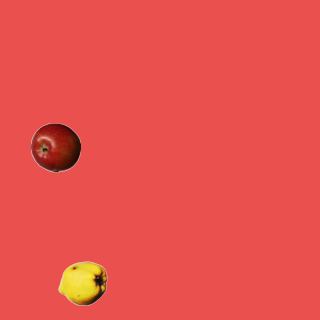Apple Braeburn: (30, 122, 80, 172)
Quince: (57, 258, 107, 308)
